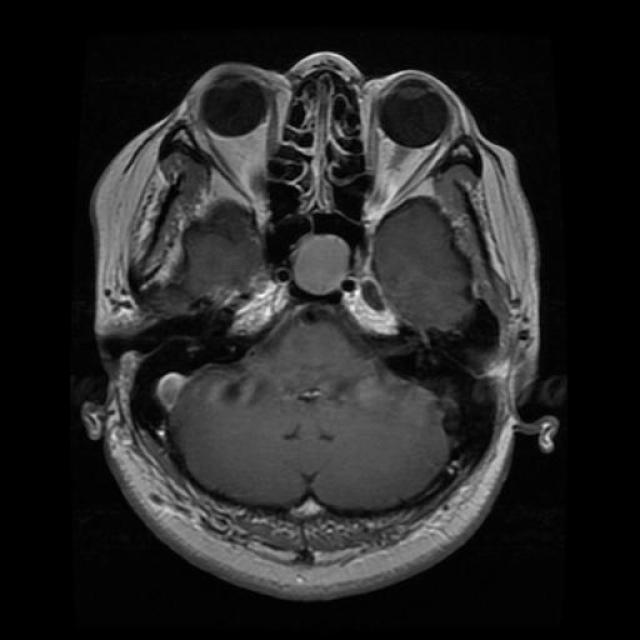pituitary: (270, 202, 361, 318)
